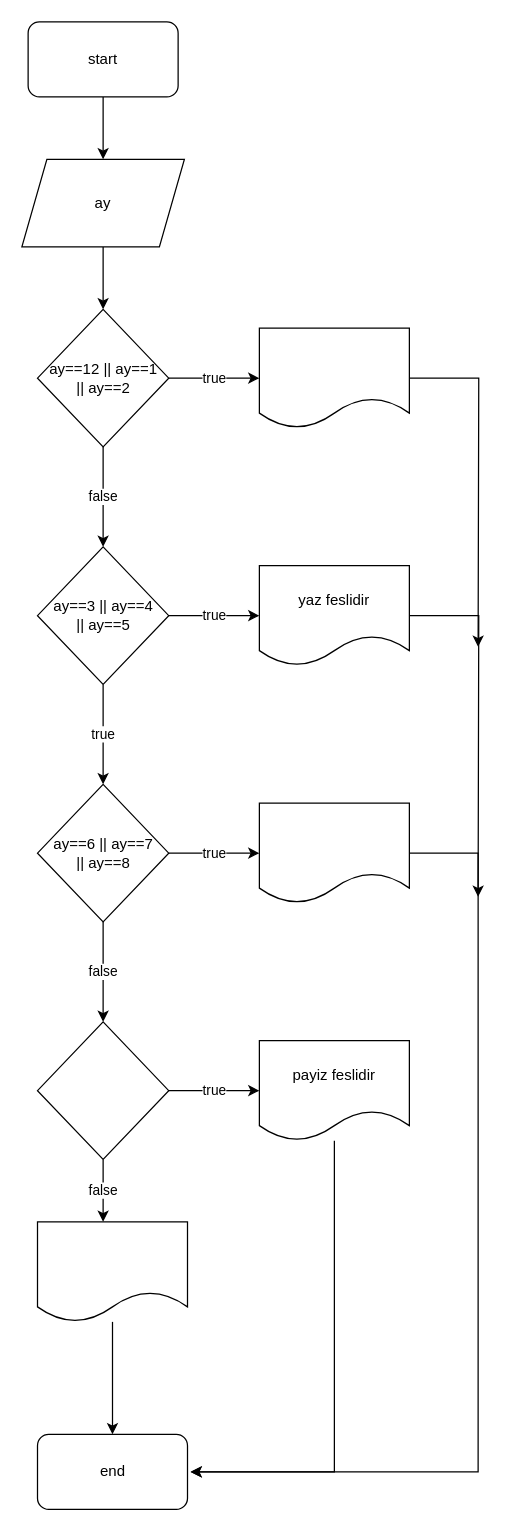
This 511x1531 diagram has some shape labels left out. The shapes that lost their labels are listed below. From the top down, each one's centre as x and y in pixels, then its label:
At [333,377]: "qis feslidir".
At [333,852]: "yay feslidir".
At [102,1090]: "ay==9 || ay==10 || ay==11".
At [112,1271]: "hecbiri deyil".
